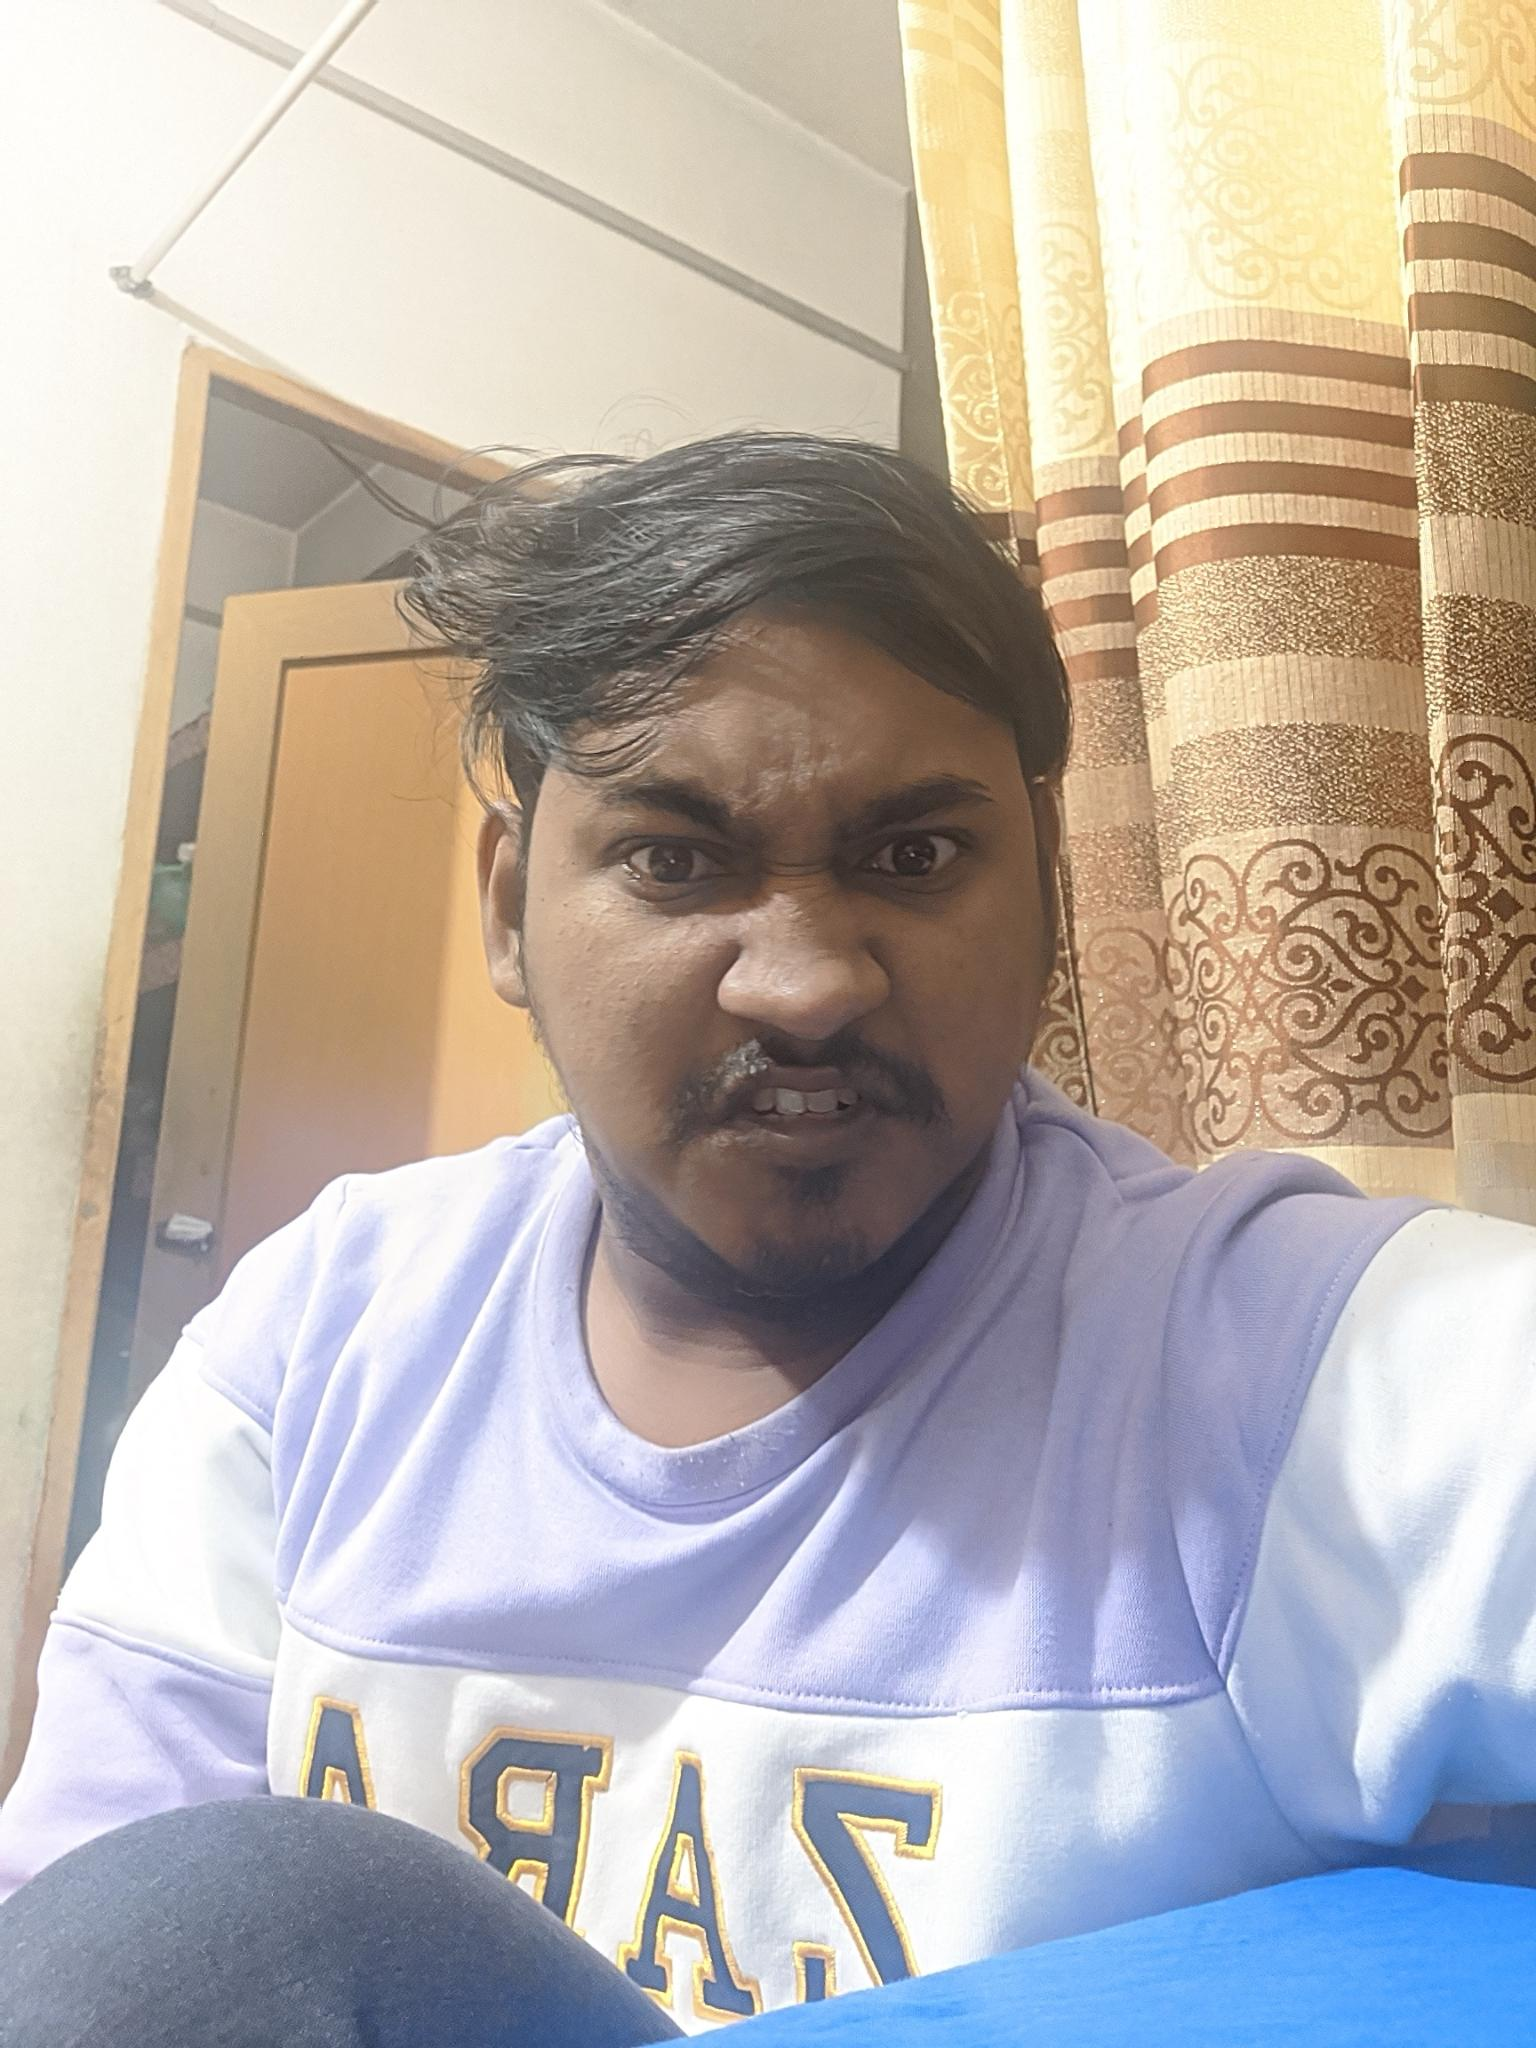Angry: (531, 650, 1055, 1300)
